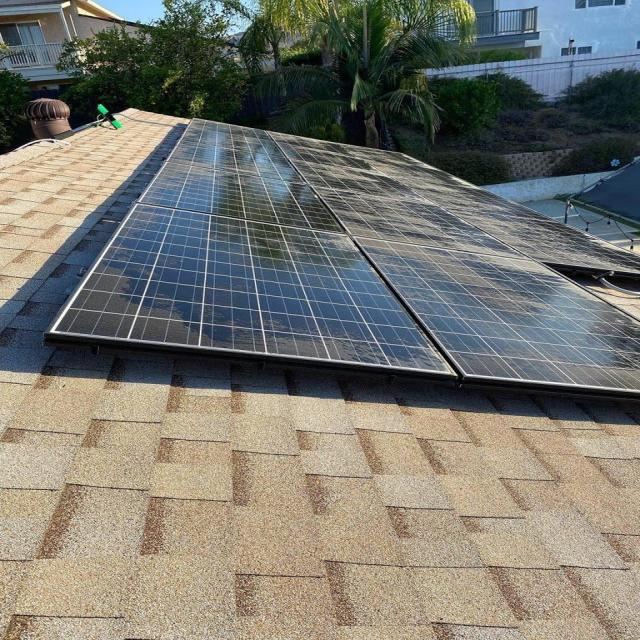dust-solar-panel: (52, 120, 640, 393)
